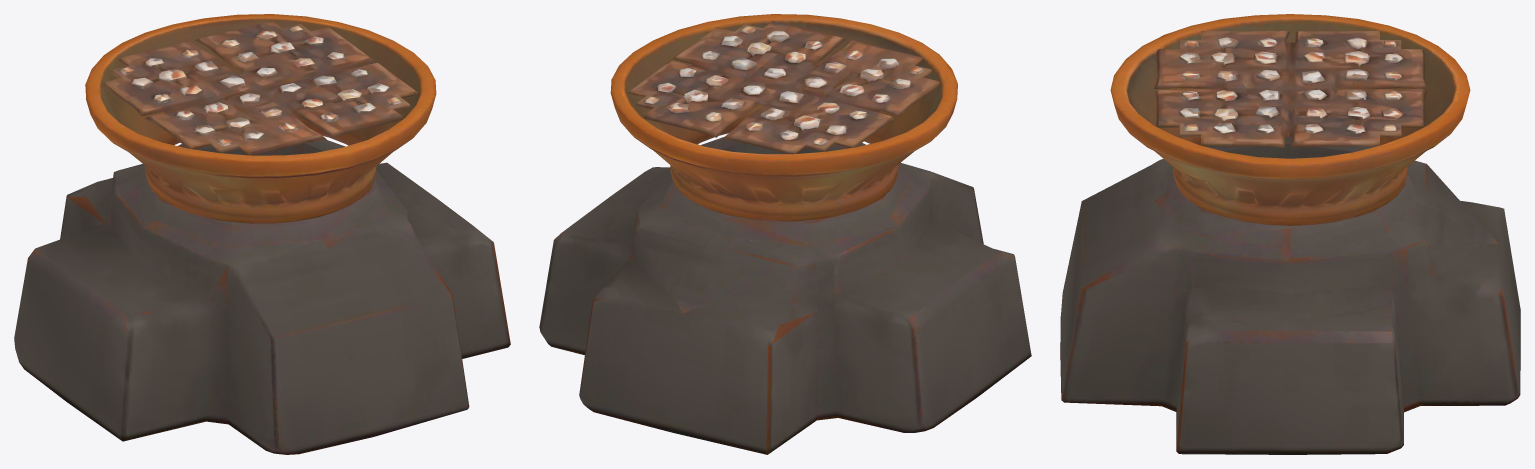
File: SM_Tripo_ZhurongBrazier.glb
3 renders of one model, left to right at view 1: azimuth 30°, elevation 25°; view 2: azimuth 150°, elevation 25°; view 3: azimuth 270°, elevation 25°, orthographic. The views are drawn at different scales.
Parts seen in each view (by area): view 1: SM_Tripo_ZhurongBrazier_LOD0; view 2: SM_Tripo_ZhurongBrazier_LOD0; view 3: SM_Tripo_ZhurongBrazier_LOD0.
Boxes of the visible parts, <box> form: SM_Tripo_ZhurongBrazier_LOD0: <box>14,14,510,454</box>; SM_Tripo_ZhurongBrazier_LOD0: <box>539,14,1031,454</box>; SM_Tripo_ZhurongBrazier_LOD0: <box>1060,14,1520,454</box>.
Bounding box in the file's own units: 2.12 × 1.4 × 2.13.
1 material, 1 textured.
